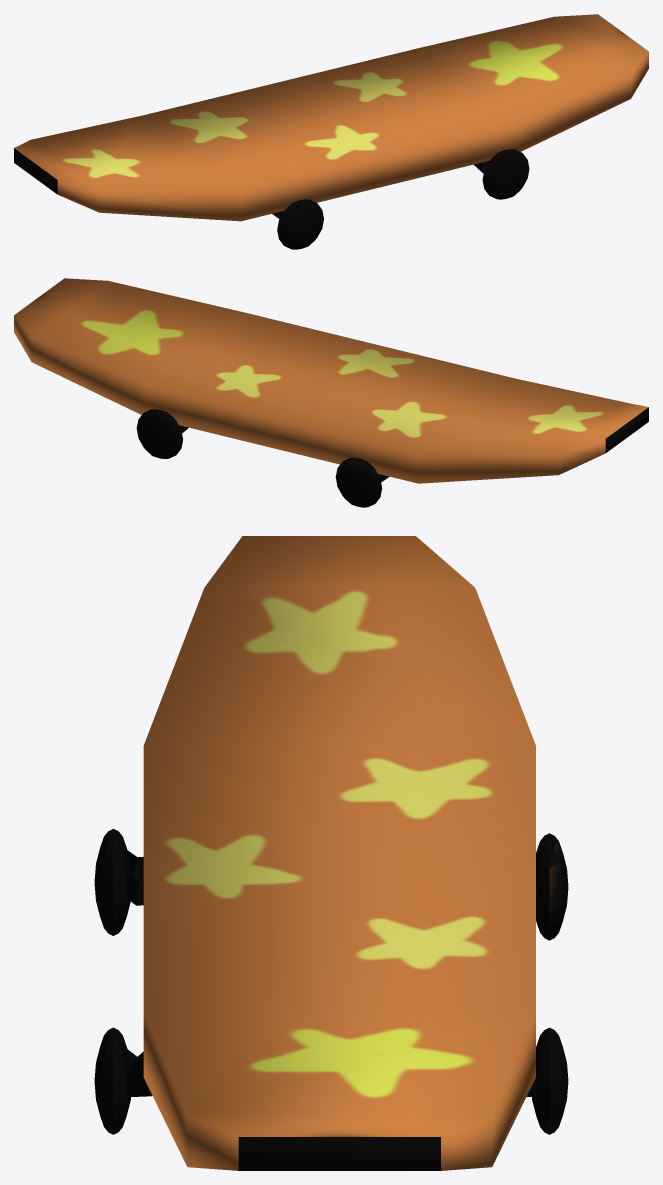
File: skate.fbx
3 views of the same model, one above another, from view 1: azimuth 30°, elevation 25°; view 2: azimuth 150°, elevation 25°; view 3: azimuth 270°, elevation 25° (orthographic). The views are drawn at different scales.
Parts seen in each view (by area): view 1: Cube; view 2: Cube; view 3: Cube.
Boxes of the visible parts, left/top/right/bottom form: Cube: left=14, top=14, right=648, bottom=249; Cube: left=14, top=278, right=648, bottom=507; Cube: left=94, top=536, right=568, bottom=1170.
Bounding box in the file's own units: 689 × 108 × 242.
1 material, 1 textured.
